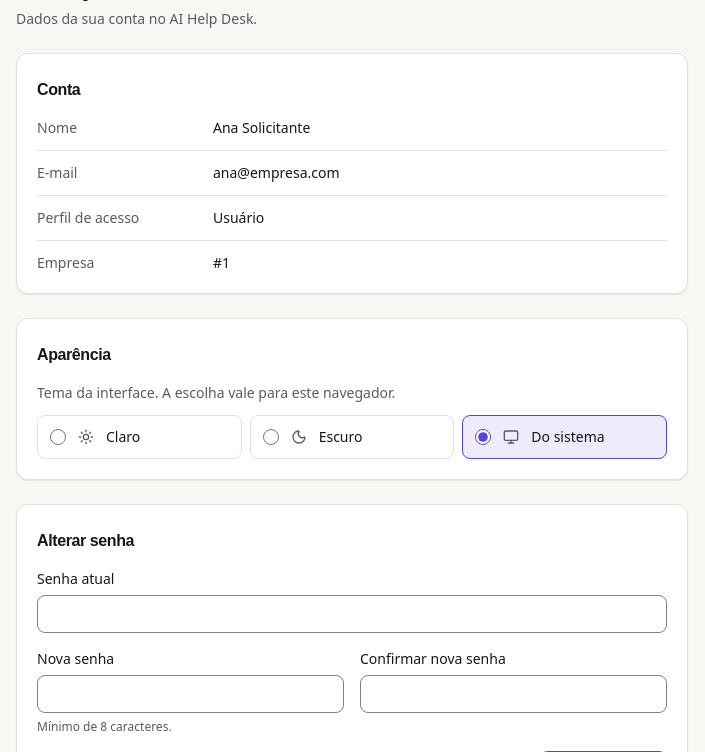
Test: ProfilePage › valida a confirmação antes de enviar
Type "senha-atual" into the password field labelled "Senha atual".
click(352, 614); type("senha-atual")  # box [37,595,667,633]
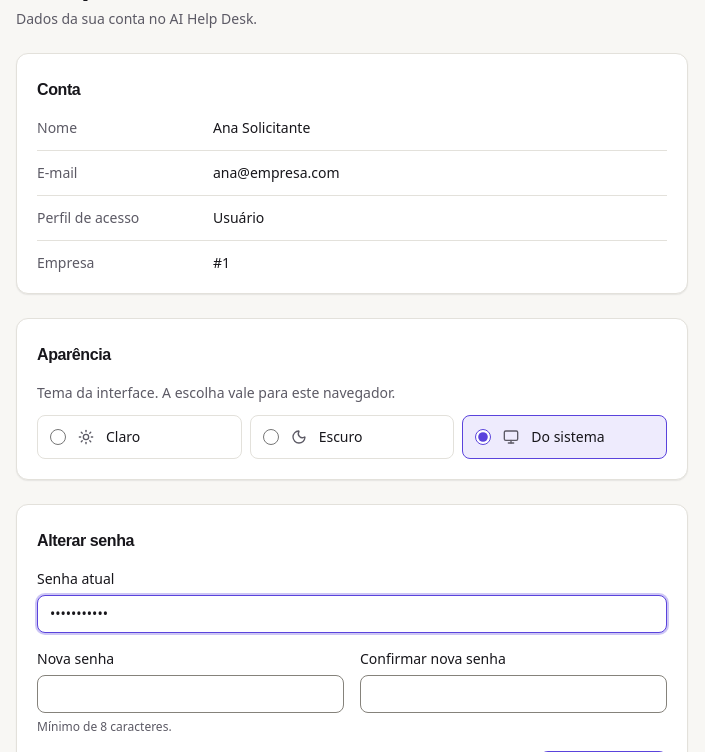
Type "nova-senha-1" into the password field labelled "Nova senha".
click(190, 694); type("nova-senha-1")  # box [37,675,344,713]
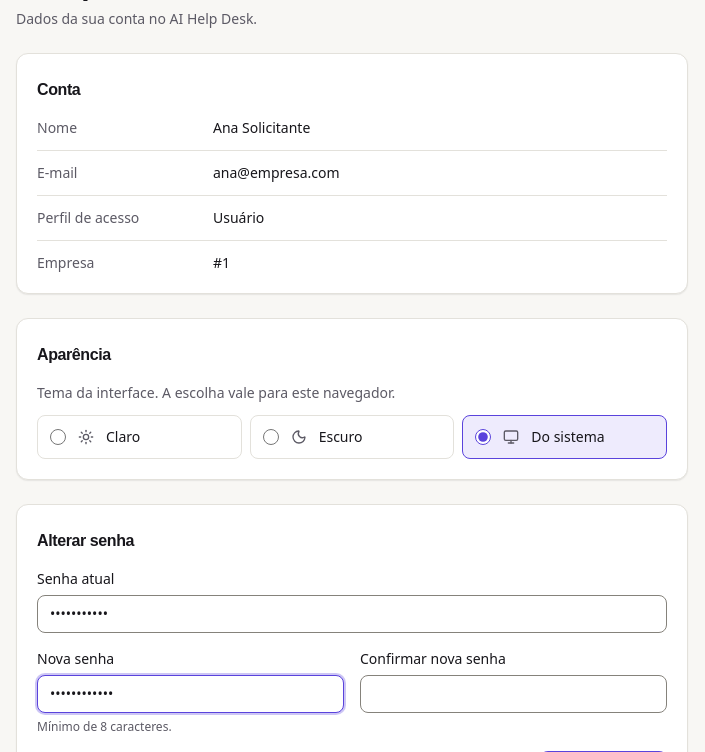
Type "outra-senha" into the password field labelled "Confirmar nova senha".
click(514, 694); type("outra-senha")  # box [360,675,667,713]
(page scrolled)
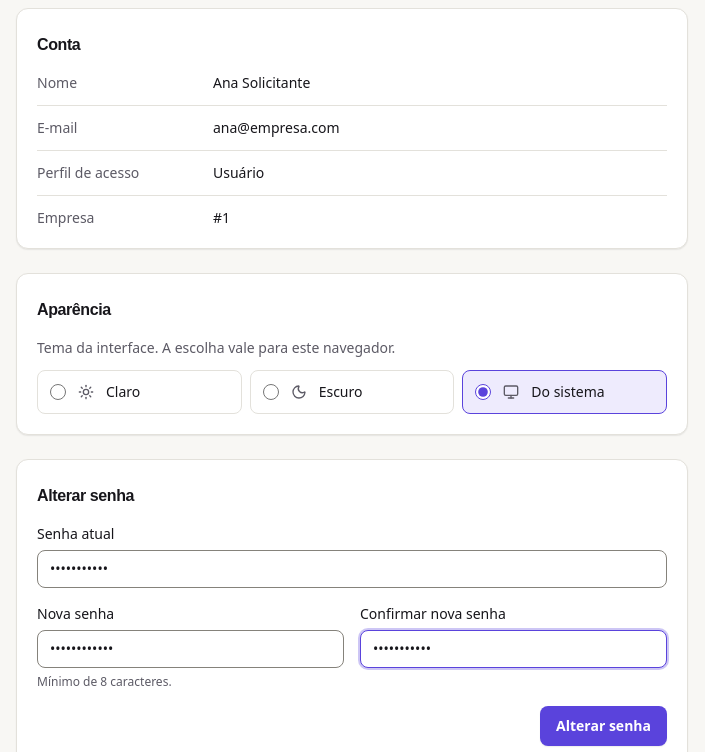
Click the button "Alterar senha".
click(604, 726)  # box [540,706,667,746]
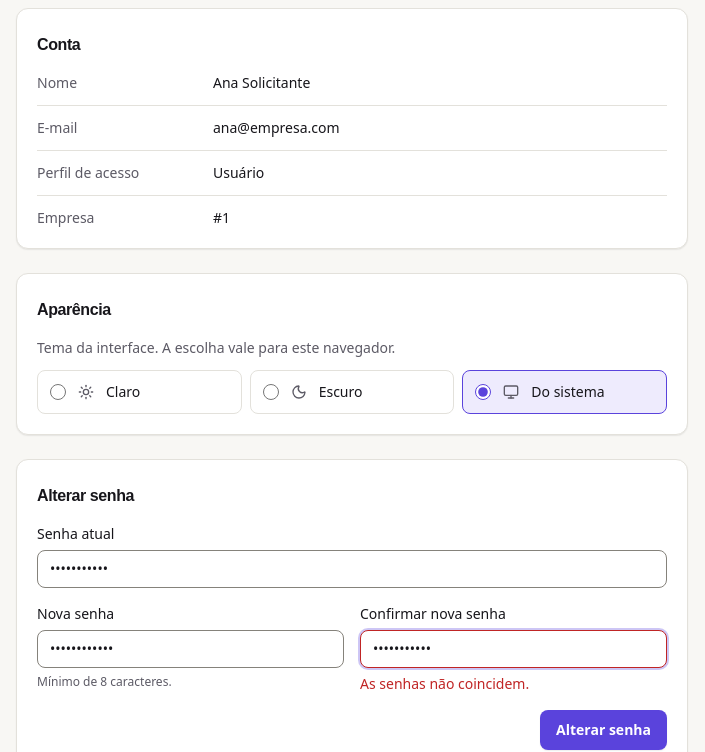
Check: the text "As senhas não coincidem." is shown, box [360,674,529,693]
